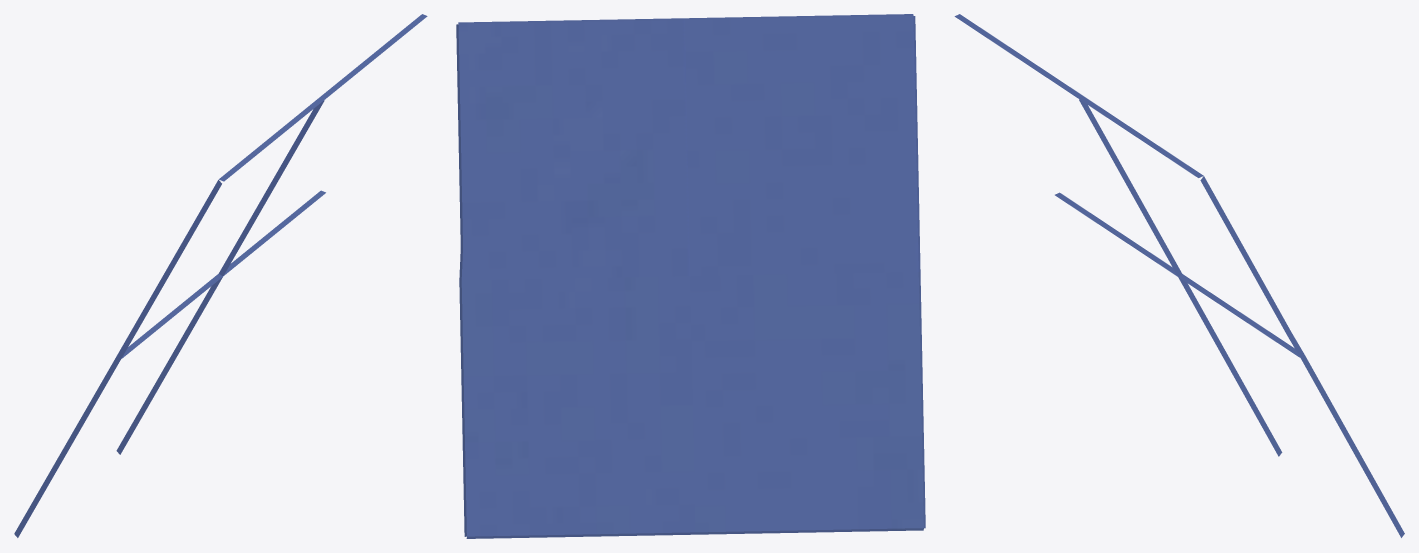
3 renders of one model, left to right at view 1: azimuth 30°, elevation 25°; view 2: azimuth 150°, elevation 25°; view 3: azimuth 270°, elevation 25°, orthographic. The views are drawn at different scales.
Size of the model in its own units: 39471 by 35104 by 34549.
Materials: 1 (1 with a texture image).
